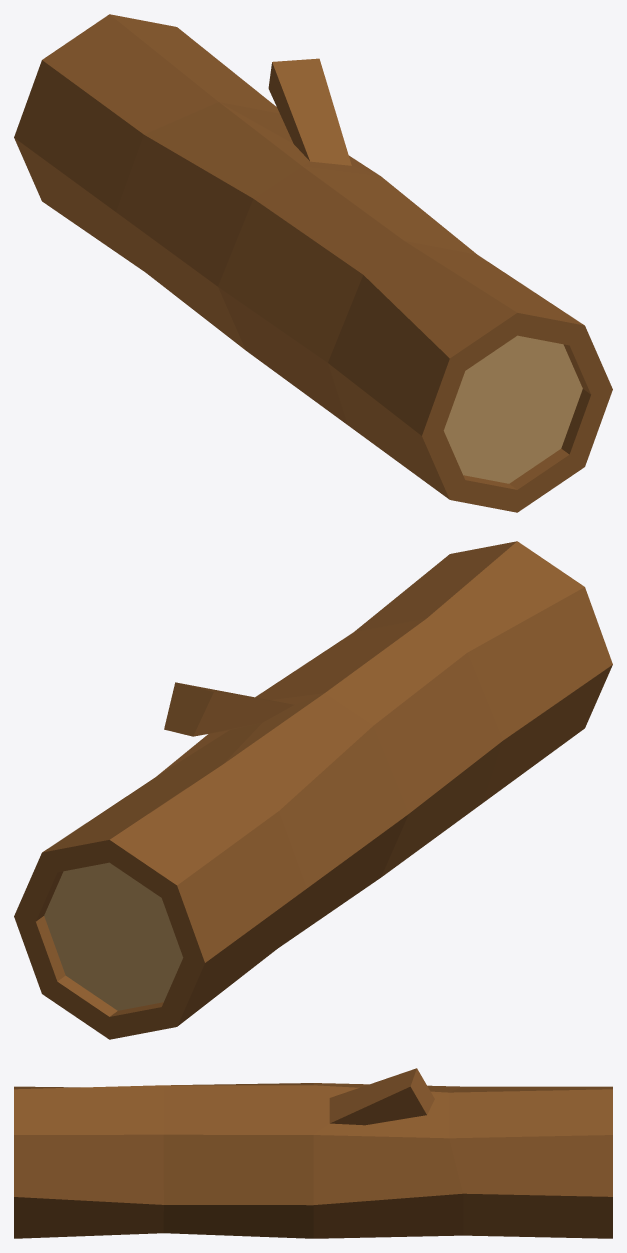
Rendered from logkayu5.fbx.
3 views of the same model, one above another, from view 1: azimuth 30°, elevation 25°; view 2: azimuth 150°, elevation 25°; view 3: azimuth 270°, elevation 25° (orthographic). The views are drawn at different scales.
Visible parts, largest first — view 1: log_1a; view 2: log_1a; view 3: log_1a.
Boxes of the visible parts, x1,y1,x2,y2 form: log_1a: [14, 14, 612, 512]; log_1a: [14, 541, 612, 1039]; log_1a: [14, 1068, 612, 1238].
Size of the model in its own units: 53.77 by 64.6 by 197.
